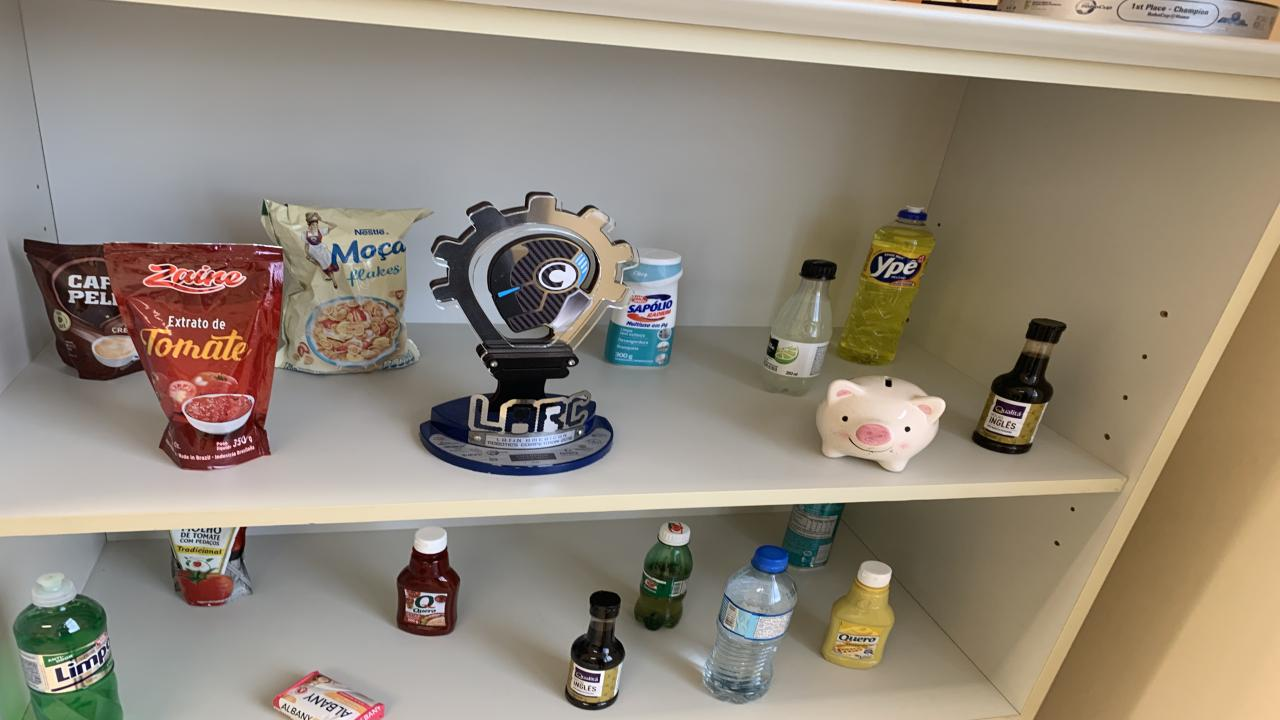Cleaner-Cleanup_Items: (605, 248, 682, 368)
Coffee-Pantry_Items: (22, 240, 142, 381)
Detergent-Cleanup_Items: (12, 572, 122, 720), (838, 206, 935, 366)
English_Sauce-Pantry_Items: (972, 319, 1065, 454), (565, 591, 625, 709)
Flakes-Snacks: (262, 201, 432, 375)
Guarana-Drinks: (635, 521, 692, 630)
Ketchup-Pantry_Items: (398, 527, 460, 636)
Mustard-Pantry_Items: (822, 561, 895, 669)
Pig_Safe-Miscellaneous: (815, 375, 945, 472)
Soap-Cleanup_Items: (272, 671, 385, 720)
Soda-Drinks: (762, 259, 838, 396)
Tea-Drinks: (782, 502, 845, 568)
Tomato_Sauce-Pantry_Items: (102, 242, 282, 469), (170, 527, 252, 606)
Water_Bottle-Drinks: (702, 546, 798, 703)
